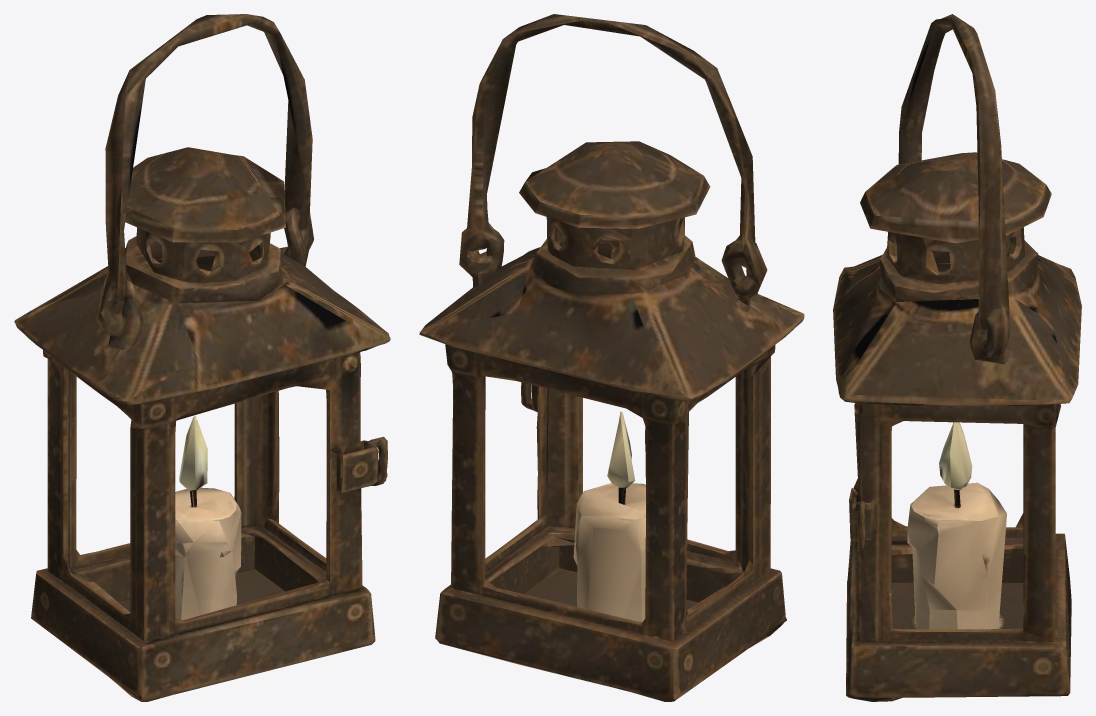
Rendered from lantern.glb.
3 views of the same model, side by side, from view 1: azimuth 30°, elevation 25°; view 2: azimuth 150°, elevation 25°; view 3: azimuth 270°, elevation 25° (orthographic).
Visible parts, largest first — view 1: Mesh0; view 2: Mesh0; view 3: Mesh0.
Part boxes in pixels (box(x1,y1,x2,y2)): Mesh0: box(14, 14, 390, 701); Mesh0: box(419, 14, 804, 701); Mesh0: box(833, 14, 1081, 701).
Bounding box in the file's own units: 0.143 × 0.3 × 0.109.
1 material, 1 textured.
